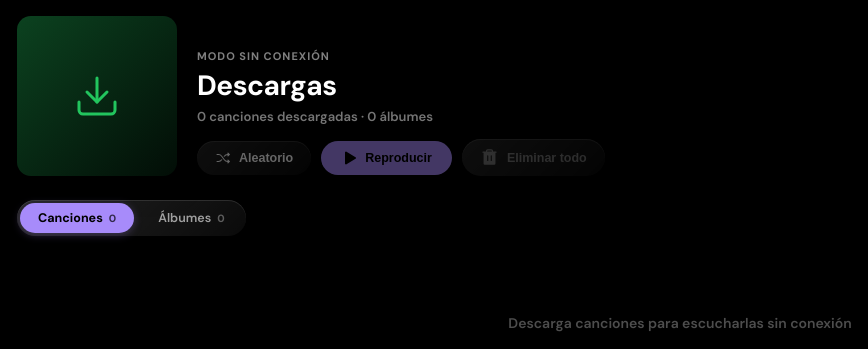
Test: DownloadsView › should show empty state in Álbumes tab when no downloads
Click the tab "Álbumes 0".
click(191, 218)  # box x1=140 y1=203 x2=243 y2=233
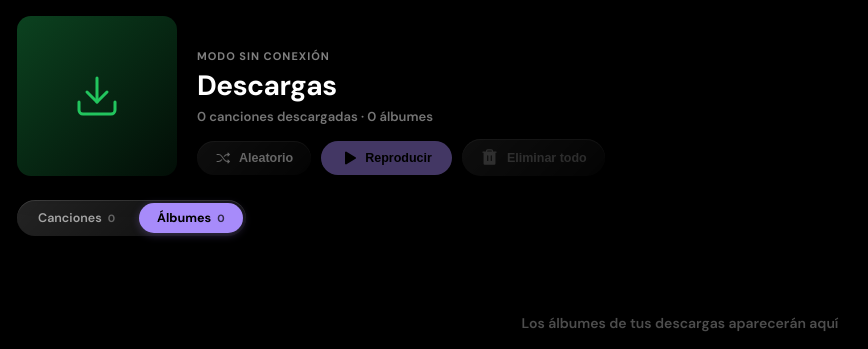
Expected: the text "Los álbumes de tus descargas aparecerán aquí" is shown, x1=522 y1=314 x2=838 y2=332
